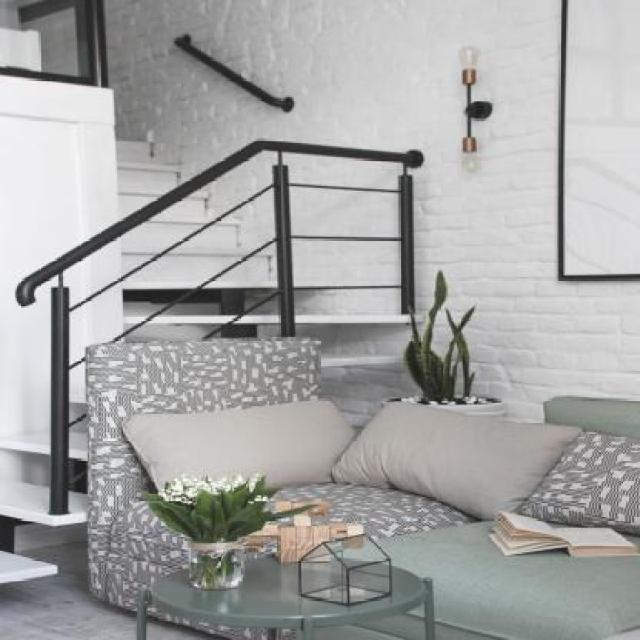stair: (0, 86, 457, 604)
